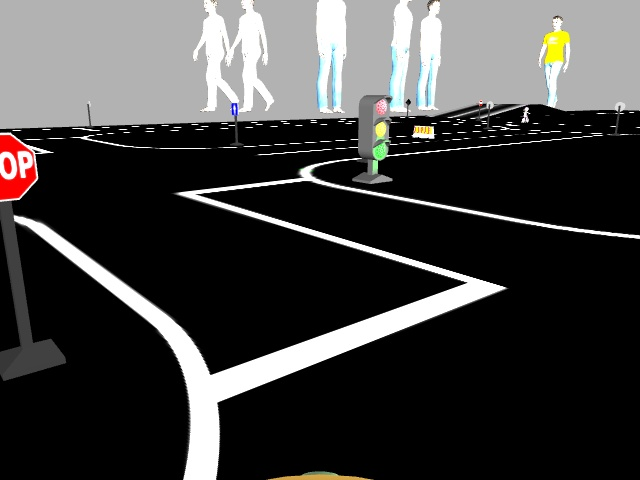ClosedRoadStand: (412, 123, 433, 137)
Stop: (0, 133, 39, 202)
TrafficLight: (359, 94, 389, 160)
